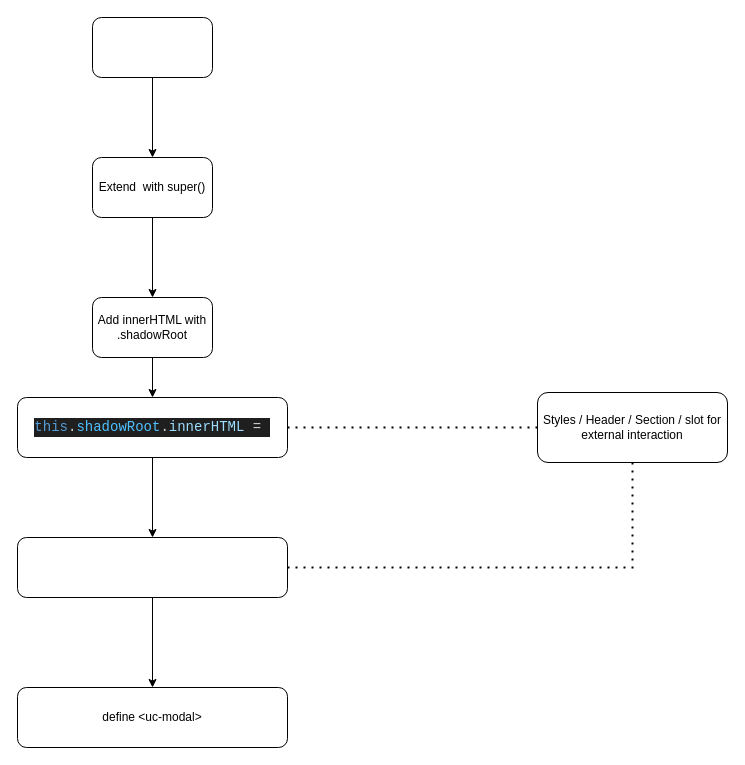
Some shapes in this 745 by 765 pixel diagram are drawn without their labels. Each missing label, with the centre of its shape:
"functions added for buttons in Modal" goes at point 152,567.
"HTML Prototype" goes at point 152,47.
